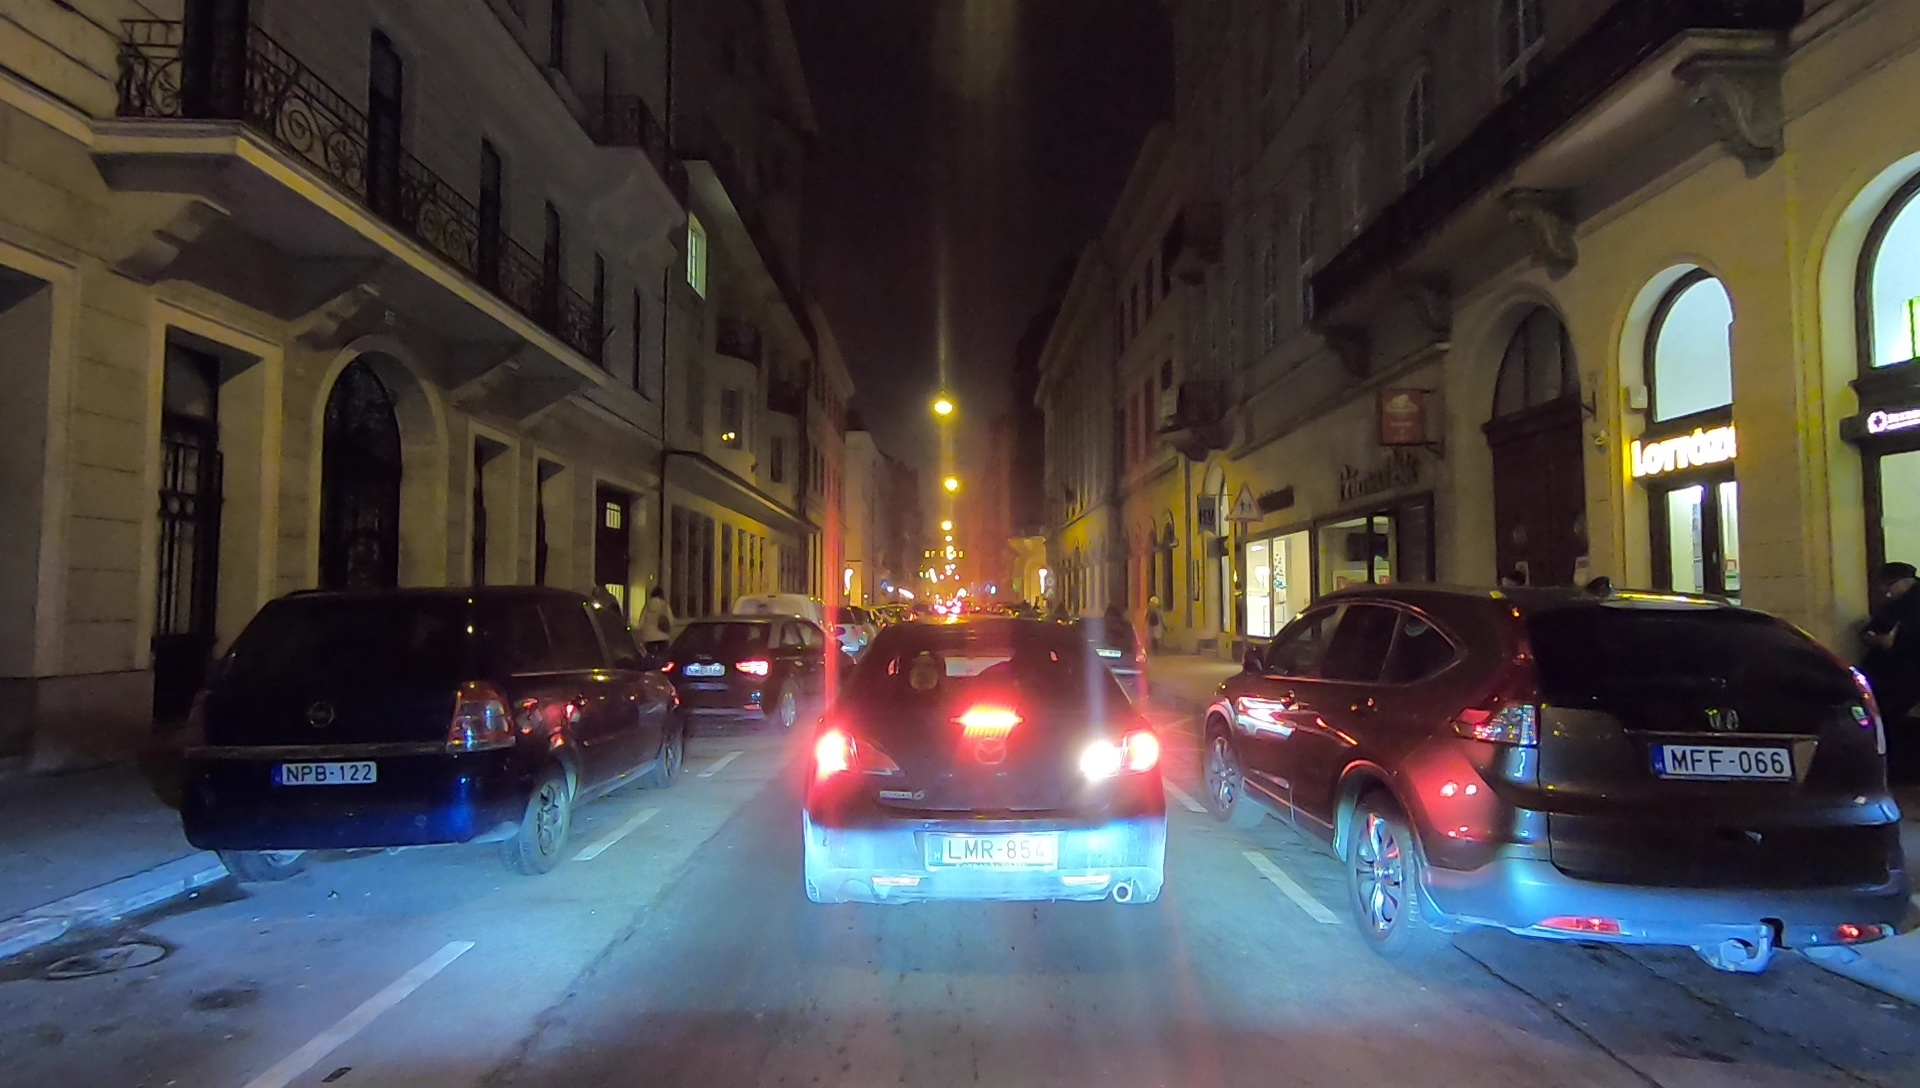person: (639, 587, 676, 663), (1141, 599, 1164, 658)
